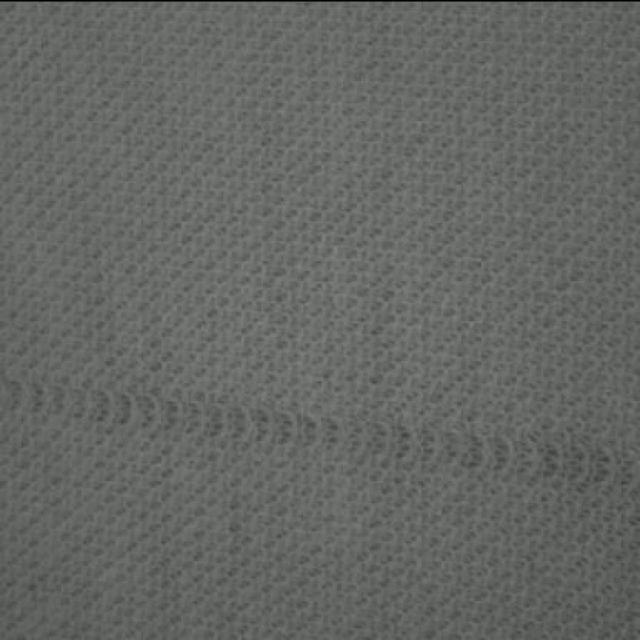Line: (0, 376, 640, 501)
